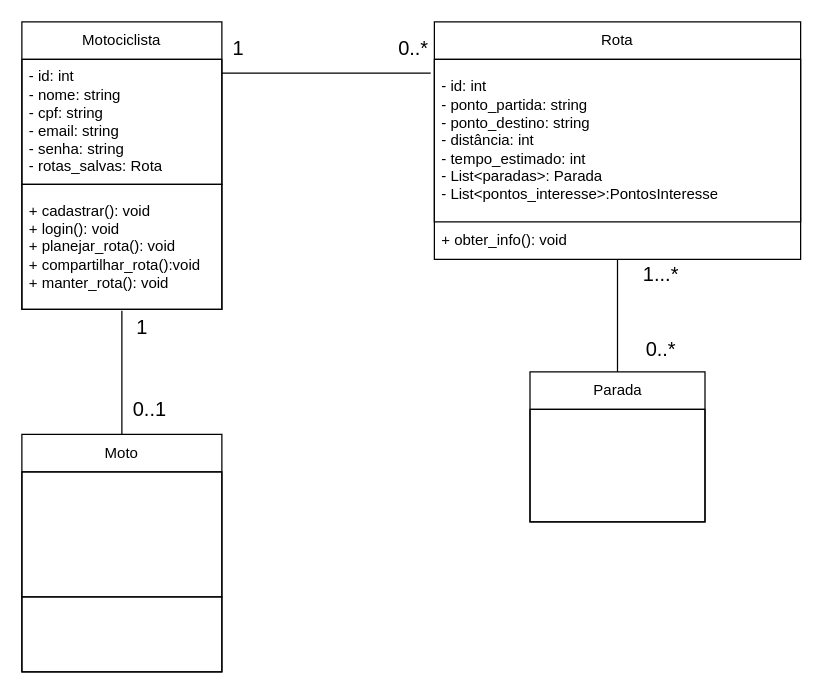
This 823x694 diagram has some shape labels left out. The centre of each missing label's shape, as x and y in pixels:
"+ cadastrar(): void + editar(): void" goes at (121,634).
"- id: int - modelo: String - marca: String" goes at (121,534).
"- id: int - nome: string - endereço: string" goes at (617,465).
